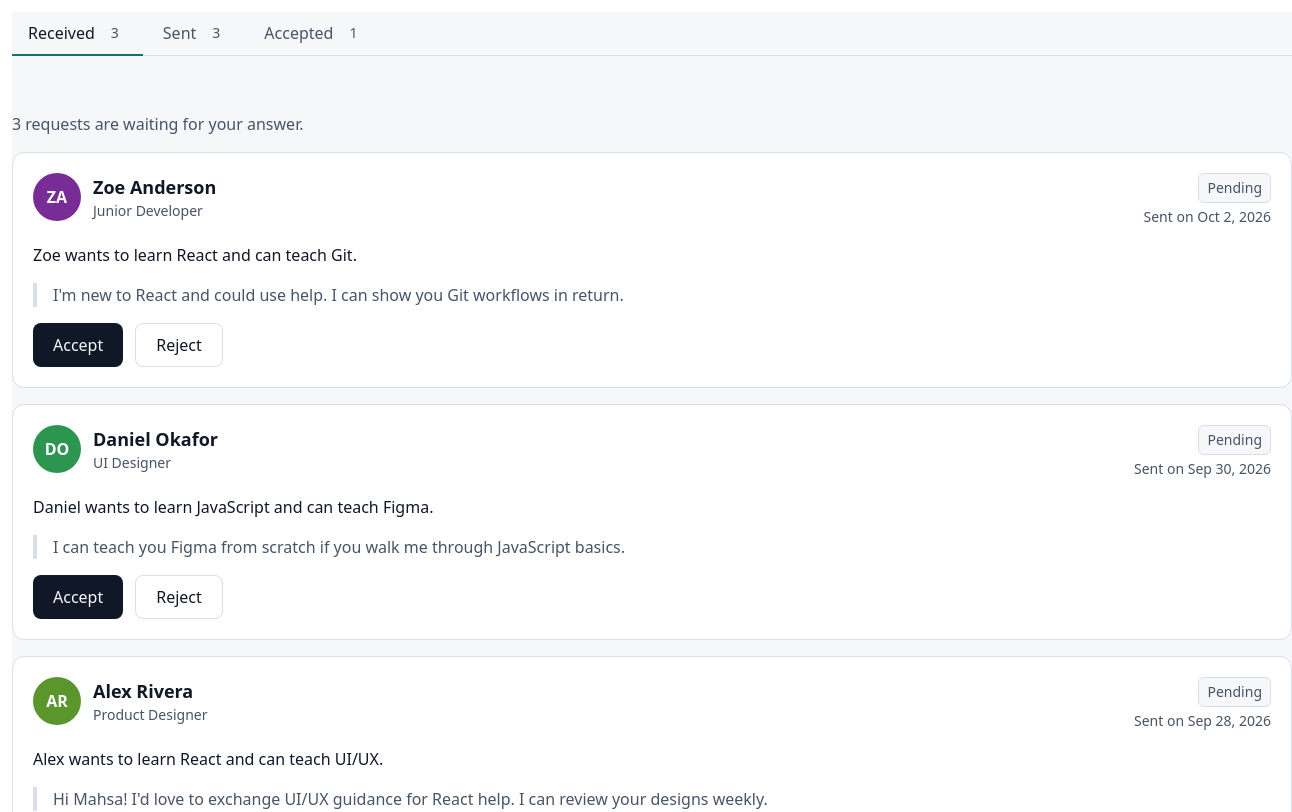
Test: Requests: accepting and rejecting › rejecting marks the request and keeps it out of Accepted
Expected: the element named "Requests" is shown, [12,12,1291,56]
Click the button with aria-label "Reject request from Daniel Okafor". click: [179, 597]
box: [135,575,223,619]
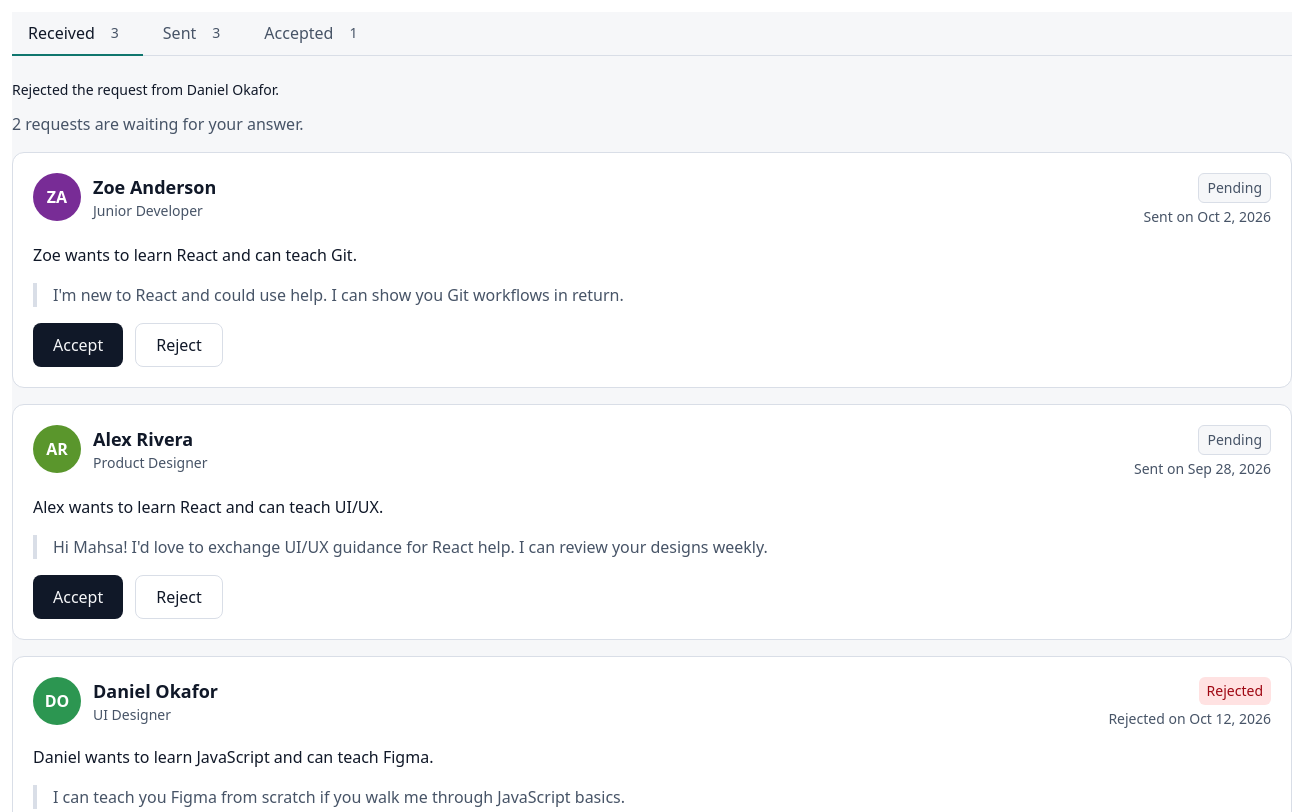
Expected: the tab "Accepted 1" is shown, [248,12,381,56]
Now the text "Rejected" is shown, box [1199,677,1271,705]
Now the text "2 requests are waiting for your answer." is shown, box [12,113,304,135]
